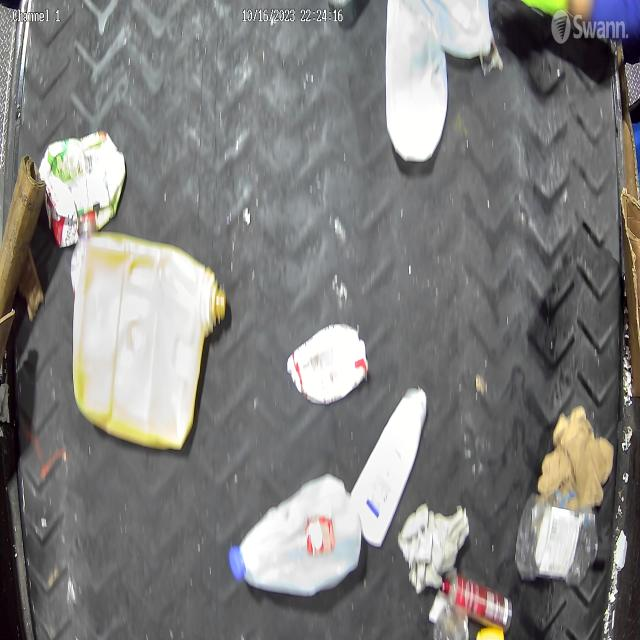milk_jug: (227, 477, 363, 598), (385, 0, 447, 162), (441, 0, 492, 58)
non_white_jug: (74, 232, 228, 446), (38, 130, 127, 248)
plastic_bottle: (516, 496, 598, 586)
